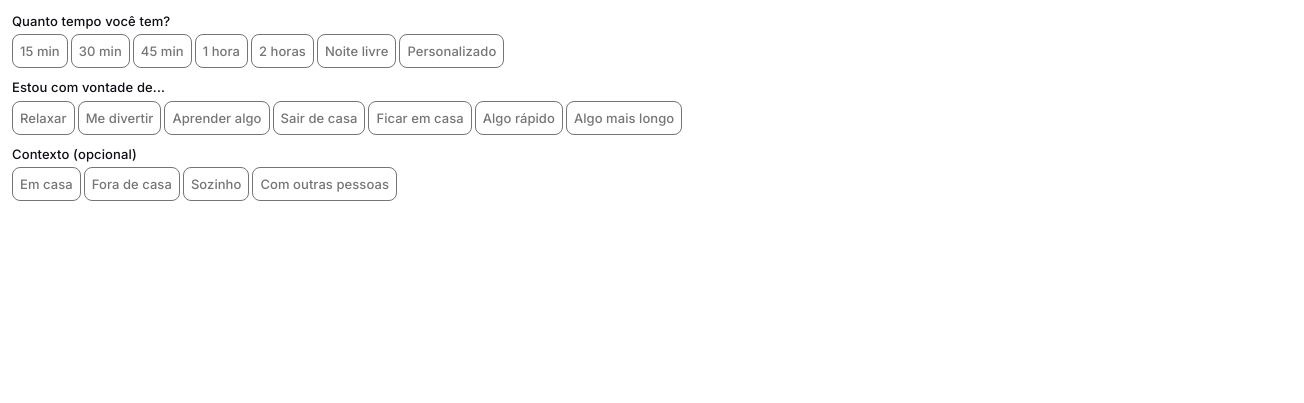
Scenario: TimeAvailabilitySuggester › accepts a custom duration
Click the button "Personalizado" at coordinates (452, 51), box [399,34,504,68]
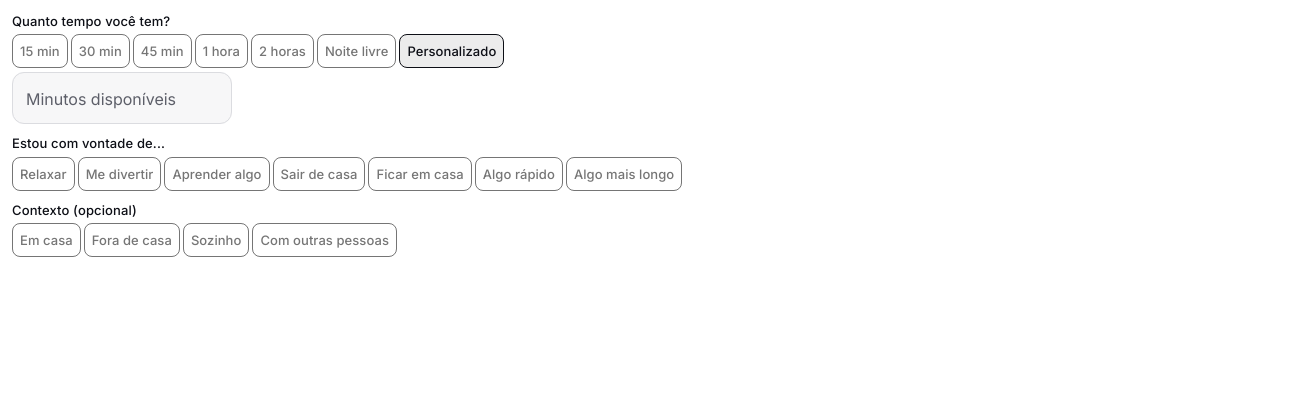
Type "150" into the number field labelled "Minutos disponíveis" at coordinates (122, 98), box [12,73,232,124]
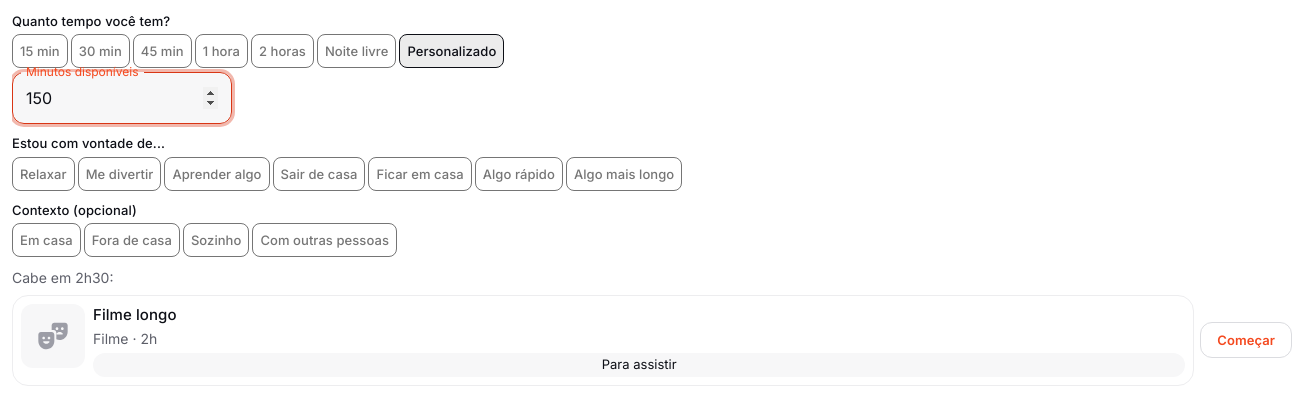
Expected: the text "Filme longo" is shown, [93,304,177,325]
